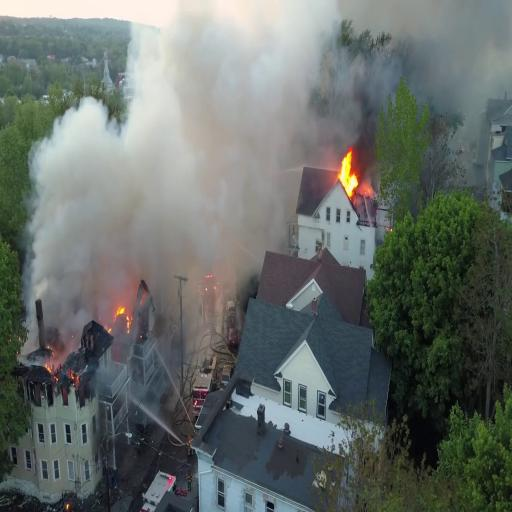fire: (338, 146, 356, 206)
smoke: (40, 107, 232, 270)
